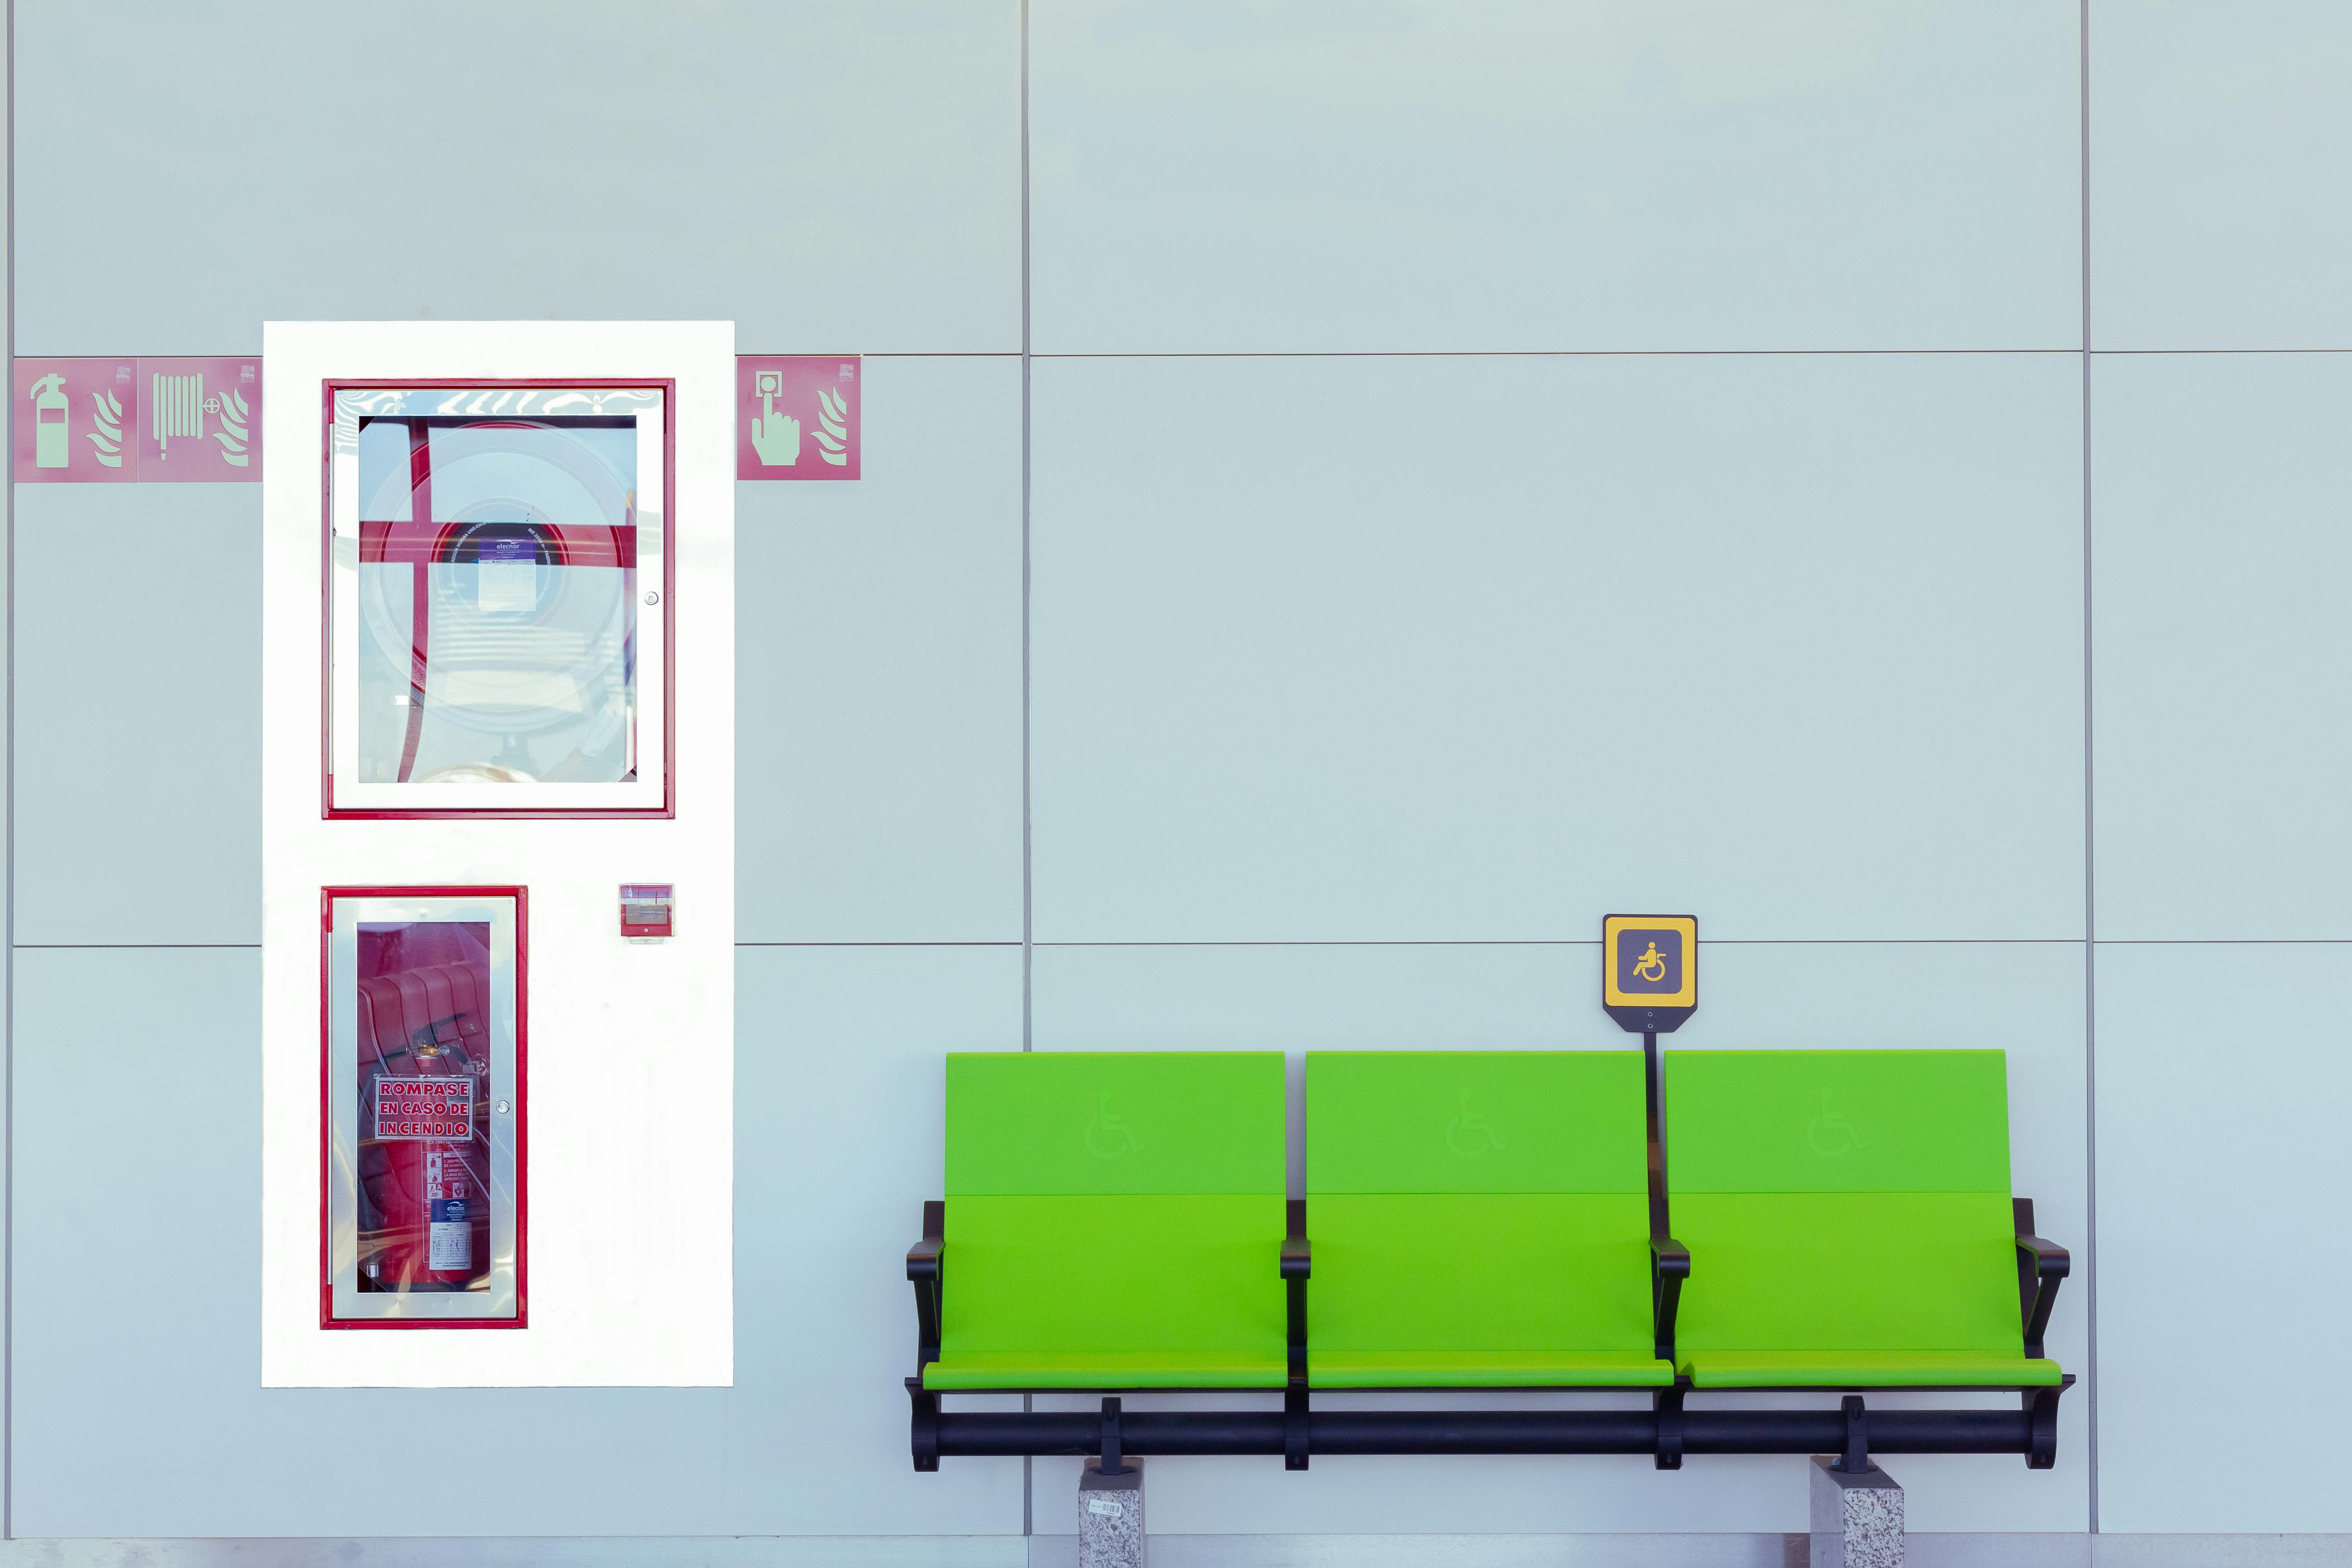extintor: (364, 1001, 488, 1293)
